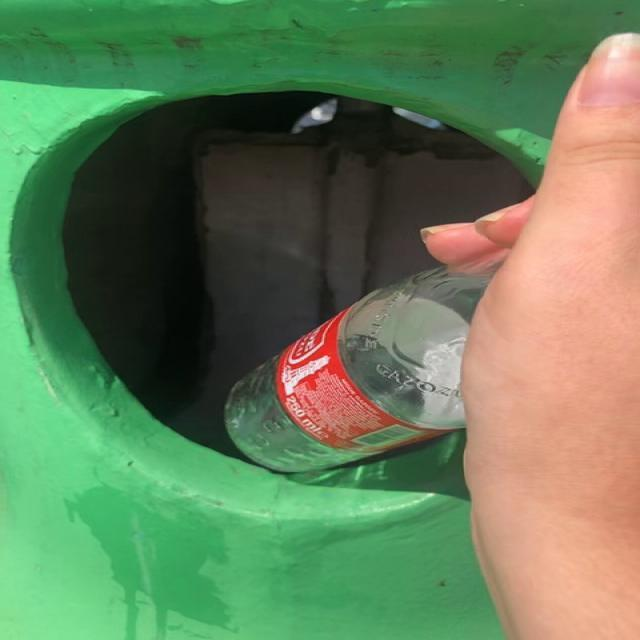Glass: (225, 268, 489, 472)
